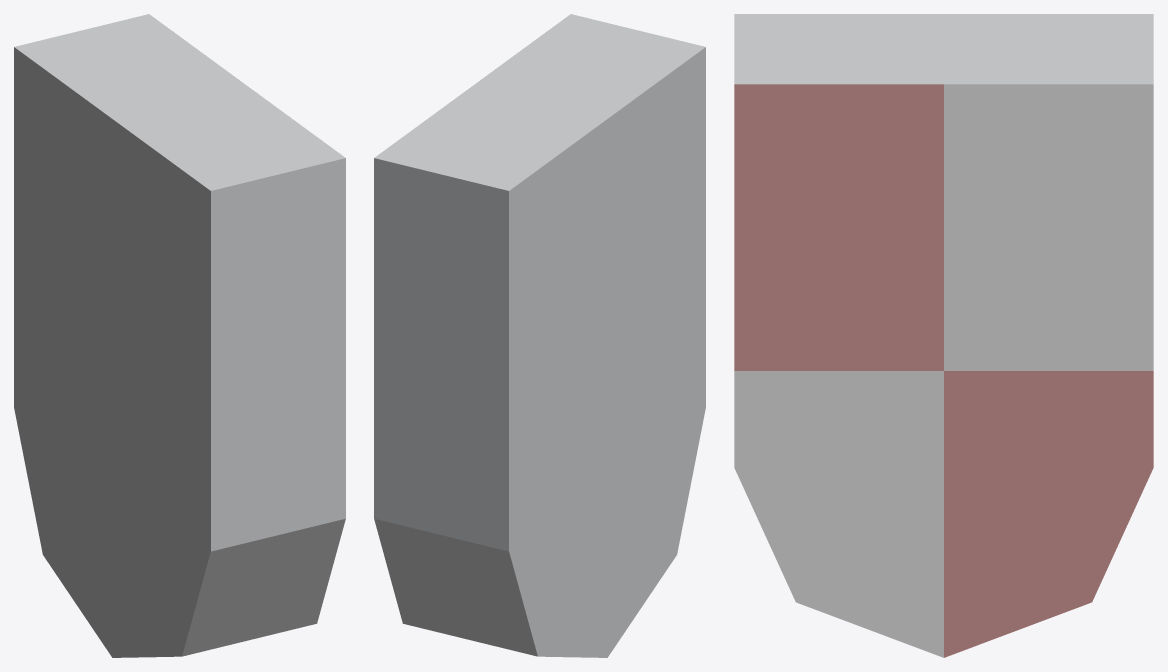
File: Shield_Red_01.glb
3 renders of one model, left to right at view 1: azimuth 30°, elevation 25°; view 2: azimuth 150°, elevation 25°; view 3: azimuth 270°, elevation 25°, orthographic. The views are drawn at different scales.
Parts seen in each view (by area): view 1: Shield_Red_01; view 2: Shield_Red_01; view 3: Shield_Red_01.
Boxes of the visible parts, box(x1,y1,x2,y2) form: Shield_Red_01: box(14, 14, 345, 657); Shield_Red_01: box(374, 14, 705, 657); Shield_Red_01: box(734, 14, 1153, 657).
Size of the model in its own units: 0.2 by 0.7625 by 0.5047.
